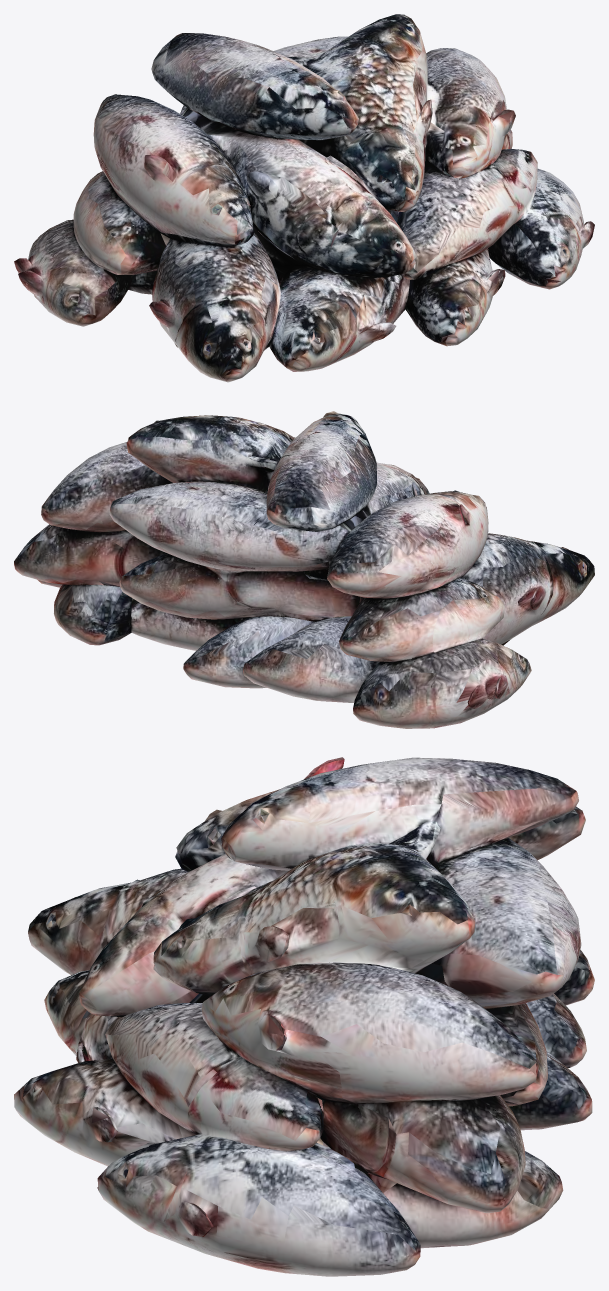
The model's file is fishpile.glb.
3 renders of one model, top to bottom at view 1: azimuth 30°, elevation 25°; view 2: azimuth 150°, elevation 25°; view 3: azimuth 270°, elevation 25°, orthographic. The views are drawn at different scales.
Visible parts, largest first — view 1: fishpile; view 2: fishpile; view 3: fishpile.
Part boxes in pixels (x1,y1,x2,y2): fishpile: [14, 14, 594, 382]; fishpile: [14, 411, 594, 728]; fishpile: [14, 757, 594, 1276].
Size of the model in its own units: 1 by 0.4427 by 0.6993.
1 material, 1 textured.
